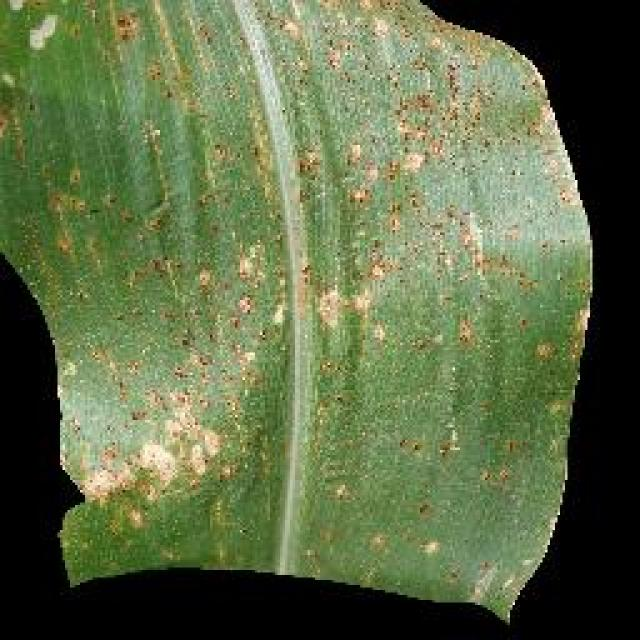Corn Common Rust: (166, 167, 572, 578)
